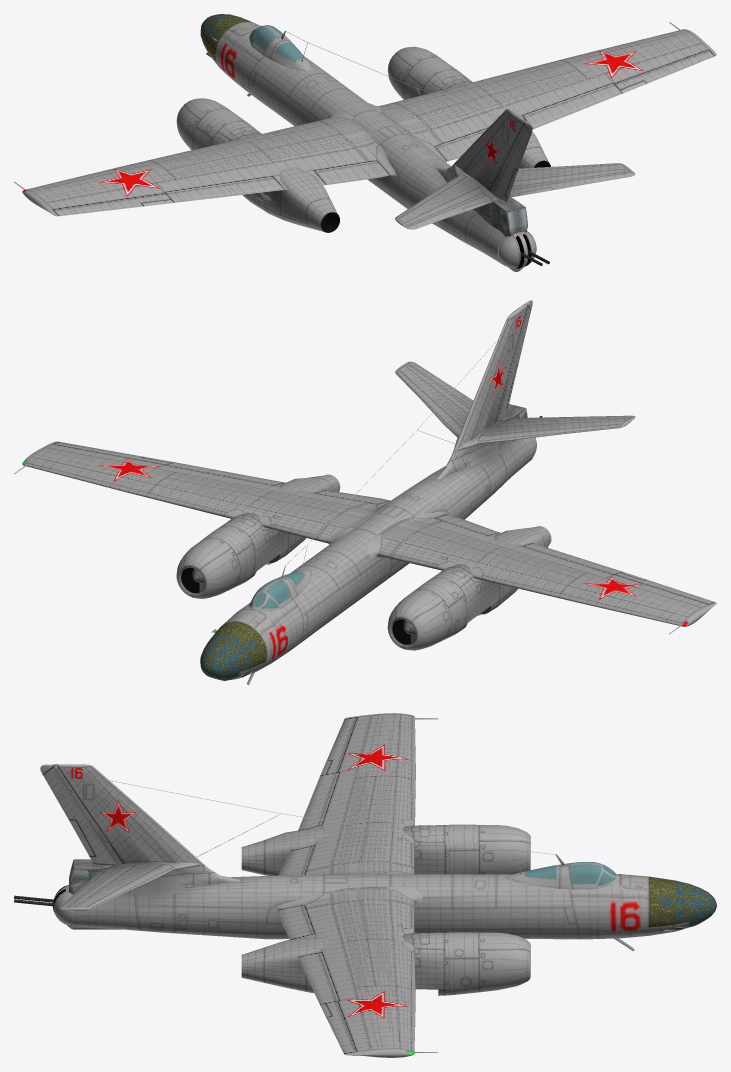
The picture shows the model from 3 angles, top to bottom: view 1: azimuth 30°, elevation 25°; view 2: azimuth 150°, elevation 25°; view 3: azimuth 270°, elevation 25°; orthographic projection. The views are drawn at different scales.
Parts seen in each view (by area): view 1: body|Line___03-FACES, body|Line___07-FACES, body|Line___-FACES, body|Circle___-FACES, body|Line___05-FACES, body|Line05-FACES, body|Line___-FACES_0, body|Sphere03-FACES, body|Box12-FACES, body|Line___11-FACES, body|Object01-FACES, body|Box12-FACES_0; view 2: body|Line___-FACES, body|Line___03-FACES, body|Line___07-FACES, body|Circle___-FACES, body|Line___05-FACES, body|Line05-FACES, body|Line___-FACES_0, body|Object01-FACES, body|Line___11-FACES, body|Box12-FACES; view 3: body|Line___-FACES, body|Circle___-FACES, body|Line___07-FACES, body|Line___03-FACES, body|Line05-FACES, body|Line___05-FACES, body|Line___-FACES_0, body|Object01-FACES, body|Line___11-FACES, body|Box12-FACES, body|Line02-FACES, body|Sphere03-FACES.
Part boxes in pixels (box(x1,y1,x2,y2)): body|Line___03-FACES: box(22, 109, 397, 216); body|Line___07-FACES: box(367, 29, 716, 161); body|Line___-FACES: box(200, 14, 533, 265); body|Circle___-FACES: box(176, 46, 550, 232); body|Line___05-FACES: box(395, 163, 635, 229); body|Line05-FACES: box(435, 109, 532, 202); body|Line___-FACES_0: box(200, 14, 304, 61); body|Sphere03-FACES: box(498, 232, 536, 268); body|Box12-FACES: box(473, 196, 527, 236); body|Line___11-FACES: box(249, 25, 312, 71); body|Object01-FACES: box(200, 14, 253, 61); body|Box12-FACES_0: box(489, 203, 526, 228); body|Line___-FACES: box(201, 438, 534, 680); body|Line___03-FACES: box(366, 511, 716, 626); body|Line___07-FACES: box(22, 441, 390, 544); body|Circle___-FACES: box(176, 474, 551, 650); body|Line___05-FACES: box(395, 361, 635, 450); body|Line05-FACES: box(436, 300, 532, 479); body|Line___-FACES_0: box(200, 571, 304, 680); body|Object01-FACES: box(200, 621, 266, 680); body|Line___11-FACES: box(249, 569, 312, 611); body|Box12-FACES: box(470, 404, 527, 466); body|Line___-FACES: box(74, 874, 716, 939); body|Circle___-FACES: box(241, 824, 530, 995); body|Line___07-FACES: box(272, 886, 422, 1057); body|Line___03-FACES: box(278, 713, 415, 875); body|Line05-FACES: box(40, 764, 239, 887); body|Line___05-FACES: box(59, 862, 201, 910); body|Line___-FACES_0: box(525, 862, 716, 927); body|Object01-FACES: box(648, 876, 716, 927); body|Line___11-FACES: box(505, 862, 619, 889); body|Box12-FACES: box(69, 859, 187, 894); body|Line02-FACES: box(109, 780, 555, 871); body|Sphere03-FACES: box(53, 884, 74, 926).
Size of the model in its own units: 21.45 by 5.5 by 18.76.
Materials: 27 (14 with a texture image).
